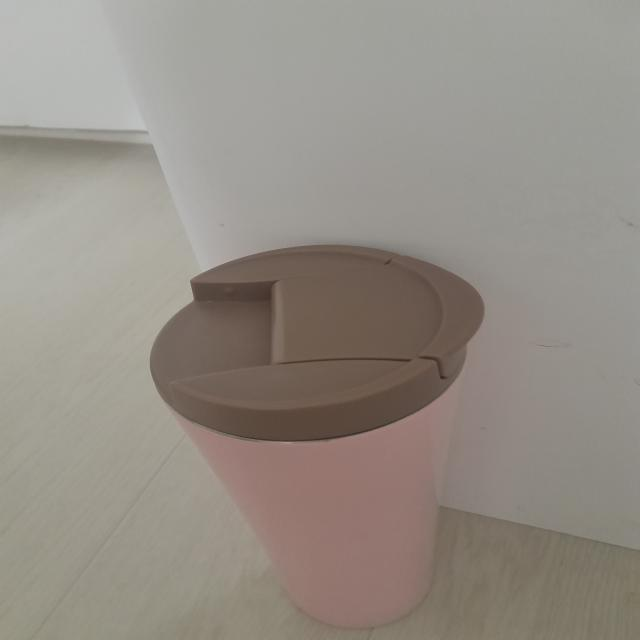waterbottle: (152, 244, 487, 626)
